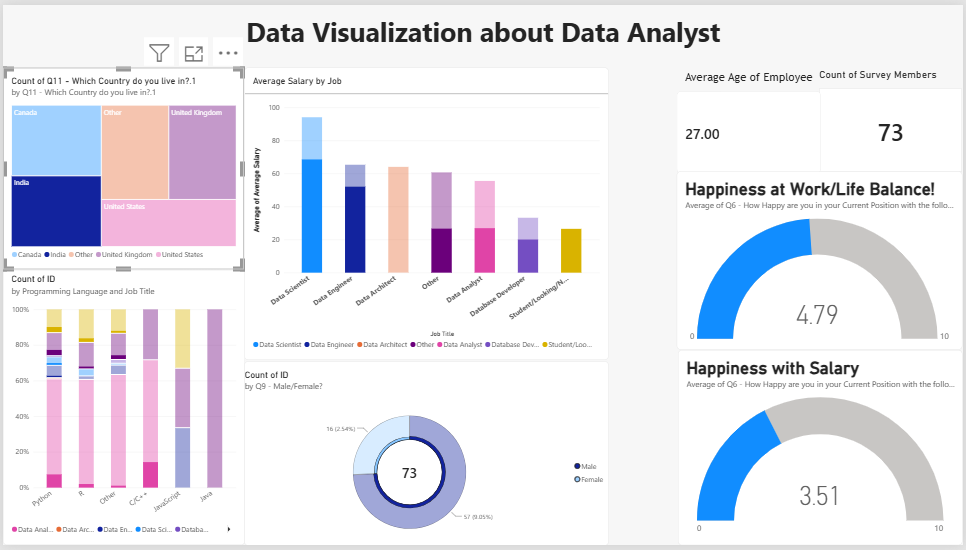

The dashboard page shown, as its layout file describes it:
{"tool":"powerbi","page":{"name":"Page 1","canvas":[1920,1080],"ordinal":0},"visuals":[{"type":"cardVisual","title":"Count of Survey Members","fields":{"Data":["CountNonNull(Data Professional Survey (2).ID)"]},"box":[1633.3,128.6,285.7,207.1],"z":0},{"type":"cardVisual","title":"Average Age of Employee","fields":{"Data":["Avg(Data Professional Survey (2).Q10 - Current Age)"]},"box":[1347.6,131,288.1,207.1],"z":1},{"type":"columnChart","title":"Average Salary by Job","fields":{"Category":["Data Professional Survey (2).Job Title"],"Series":["Data Professional Survey (2).Job Title"],"Y":["Avg(Data Professional Survey (2).Average Salary)"]},"box":[483.7,125.6,728.6,584.6],"z":2},{"type":"hundredPercentStackedColumnChart","fields":{"Category":["Data Professional Survey (2).Programming Language"],"Series":["Data Professional Survey (2).Job Title"],"Y":["CountNonNull(Data Professional Survey (2).ID)"]},"box":[0,522.8,483.7,557.8],"z":3},{"type":"gauge","title":"Happiness at Work/Life Balance!","fields":{"MaxValue":["Max(Data Professional Survey (2).Q6 - How Happy are you in your Current Position with the following? (Work/Life Balance)"],"MinValue":["Min(Data Professional Survey (2).Q6 - How Happy are you in your Current Position with the following? (Work/Life Balance)"],"Y":["Avg(Data Professional Survey (2).Q6 - How Happy are you in your Current Position with the following? (Work/Life Balance)"]},"box":[1347.6,333.3,571.4,357.1],"z":4},{"type":"treemap","fields":{"Group":["Data Professional Survey (2).Q11 - Which Country do you live in?.1"],"Values":["Count(Data Professional Survey (2).Q11 - Which Country do you live in?.1)"]},"box":[0,125.6,483.7,405.5],"z":5},{"type":"gauge","title":"Happiness with Salary","fields":{"MaxValue":["Max(Data Professional Survey (2).Q6 - How Happy are you in your Current Position with the following? (Salary))"],"MinValue":["Min(Data Professional Survey (2).Q6 - How Happy are you in your Current Position with the following? (Salary))"],"Y":["Avg(Data Professional Survey (2).Q6 - How Happy are you in your Current Position with the following? (Salary))"]},"box":[1350,690.5,569,390.5],"z":6},{"type":"textbox","box":[0,0,1920.4,125.6],"z":7},{"type":"donutChart","fields":{"Category":["Data Professional Survey (2).Q9 - Male/Female?"],"Y":["CountNonNull(Data Professional Survey (2).ID)"]},"box":[483.3,711.9,728.6,369],"z":8}]}

Visuals, with their boxes on the page's 1920x1080 design canvas (x1, y1, x2, y2). These are canvas units, not pixel positions in the 966x550 screenshot, which may show the page scaled, cropped or inside an application window:
"Count of Survey Members" cardVisual: <box>1633,129,1919,336</box>
"Average Age of Employee" cardVisual: <box>1348,131,1636,338</box>
"Average Salary by Job" columnChart: <box>484,126,1212,710</box>
hundredPercentStackedColumnChart - Data Professional Survey (2).Programming Language x Data Professional Survey (2).Job Title: <box>0,523,484,1081</box>
"Happiness at Work/Life Balance!" gauge: <box>1348,333,1919,690</box>
treemap - Data Professional Survey (2).Q11 - Which Country do you live in?.1 x Count(Data Professional Survey (2).Q11 - Which Country do you live in?.1): <box>0,126,484,531</box>
"Happiness with Salary" gauge: <box>1350,690,1919,1081</box>
textbox: <box>0,0,1920,126</box>
donutChart - Data Professional Survey (2).Q9 - Male/Female? x CountNonNull(Data Professional Survey (2).ID): <box>483,712,1212,1081</box>
